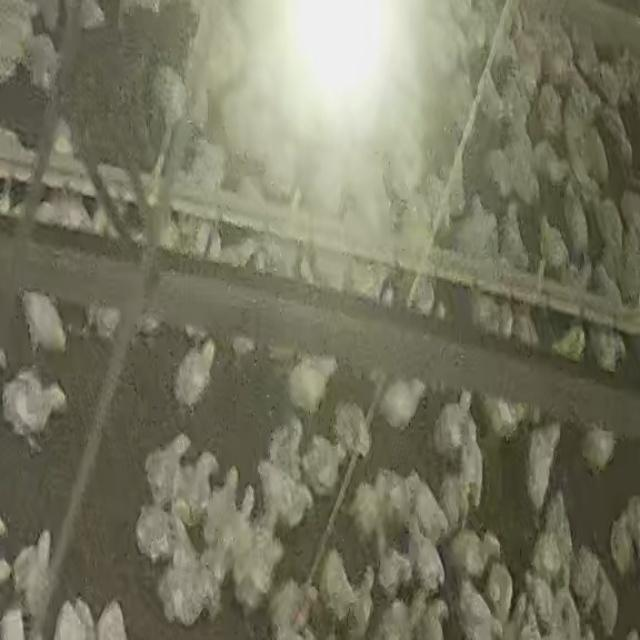chicken: (225, 512, 284, 609), (154, 544, 218, 628), (3, 371, 67, 448), (255, 449, 312, 531), (142, 432, 196, 512), (11, 528, 57, 620), (402, 515, 448, 593), (265, 576, 320, 640), (524, 426, 564, 513), (529, 503, 570, 583), (299, 433, 348, 498), (134, 504, 187, 564), (173, 338, 218, 408), (174, 451, 220, 519), (32, 187, 97, 235), (285, 354, 335, 415), (22, 288, 66, 356), (340, 563, 378, 639), (375, 376, 427, 431), (201, 469, 238, 544), (453, 580, 502, 636), (318, 547, 358, 612), (432, 397, 475, 457), (608, 499, 640, 578), (458, 194, 495, 262), (499, 202, 534, 272), (22, 32, 61, 94), (570, 547, 604, 618), (351, 481, 387, 546), (446, 526, 490, 578), (474, 396, 525, 440), (333, 400, 371, 458), (591, 191, 624, 256), (560, 182, 588, 258), (376, 471, 414, 527), (408, 473, 441, 535), (379, 597, 427, 639), (586, 326, 627, 375), (578, 425, 617, 476), (520, 570, 555, 626), (461, 443, 487, 513), (84, 301, 122, 344), (419, 600, 454, 640), (442, 477, 467, 533), (537, 140, 566, 188), (407, 274, 438, 318), (541, 215, 566, 269), (98, 598, 128, 640), (56, 600, 86, 640), (600, 575, 618, 640), (488, 146, 512, 194)
